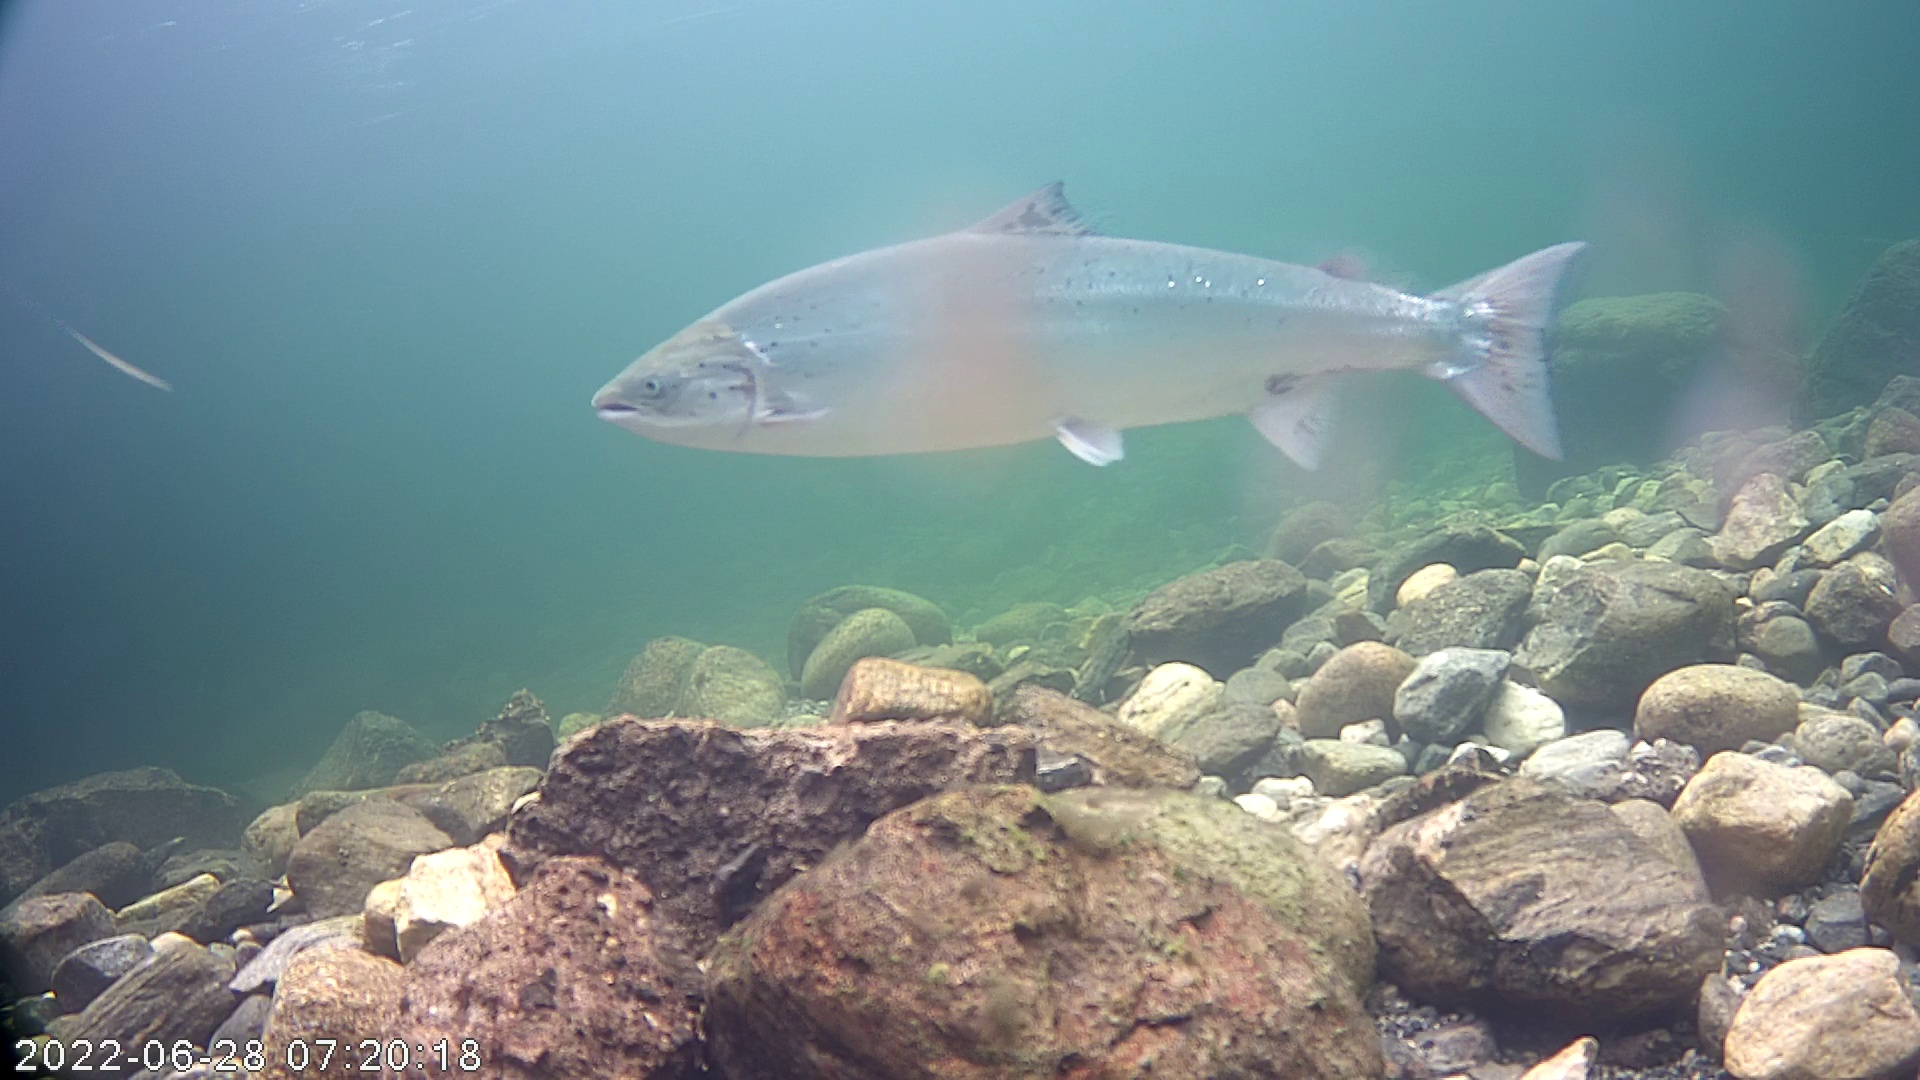salmon: (568, 105, 1623, 546)
